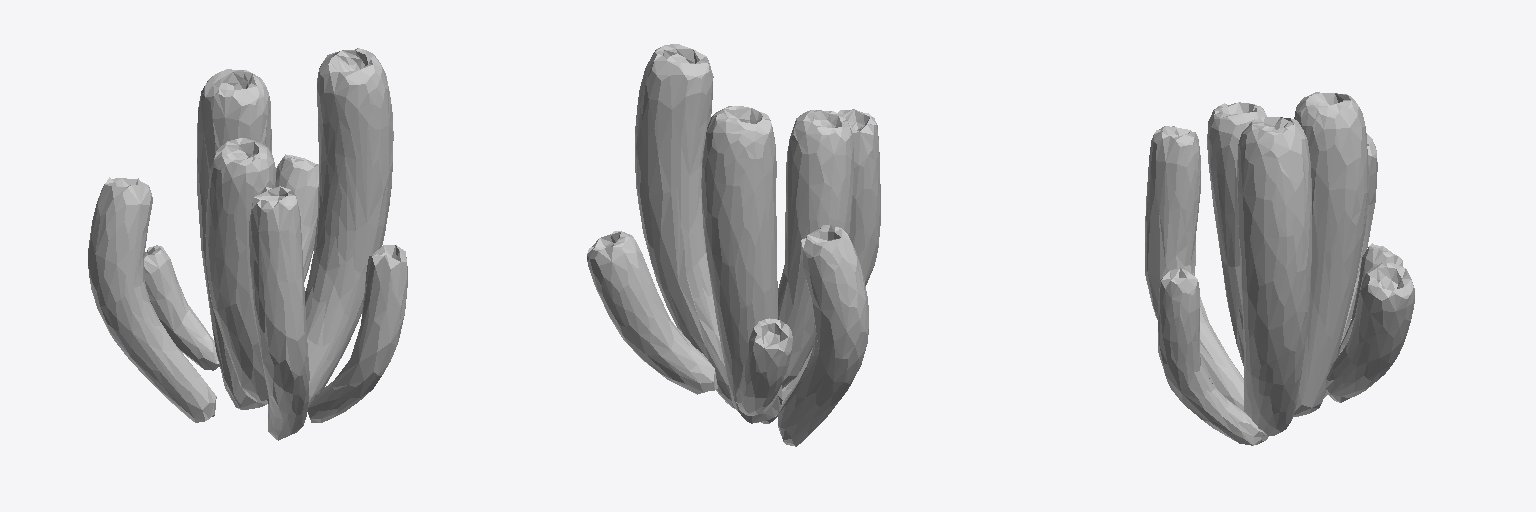
The model's file is TubeCoral.OBJ.
3 views of the same model, side by side, from view 1: azimuth 30°, elevation 25°; view 2: azimuth 150°, elevation 25°; view 3: azimuth 270°, elevation 25° (orthographic).
Parts seen in each view (by area): view 1: TubeCoral; view 2: TubeCoral; view 3: TubeCoral.
Part boxes in pixels (x1,y1,x2,y2): TubeCoral: (88,48,407,440); TubeCoral: (587,44,880,446); TubeCoral: (1145,92,1414,445).
Bounding box in the file's own units: 1.3 × 1.71 × 1.17.